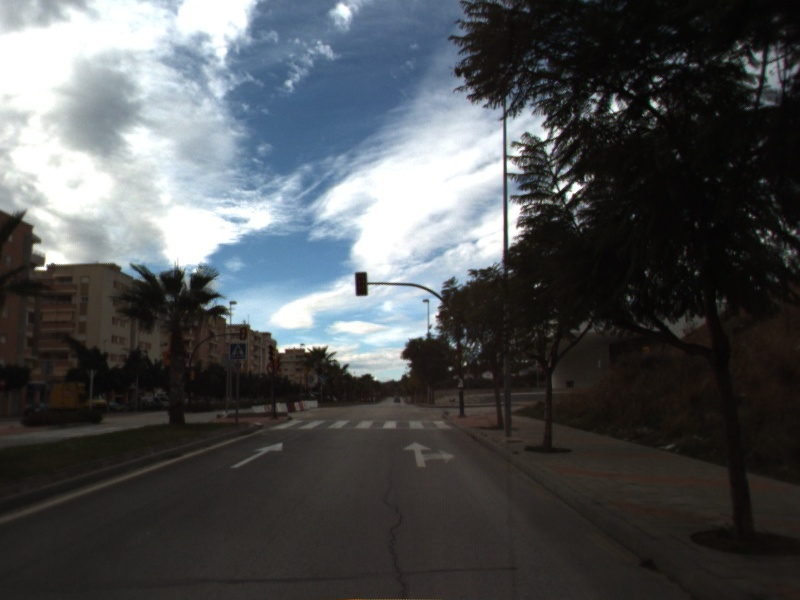STRAIGHT: (229, 440, 284, 470)
STRAIGHT_RIGHT: (401, 439, 457, 469)
